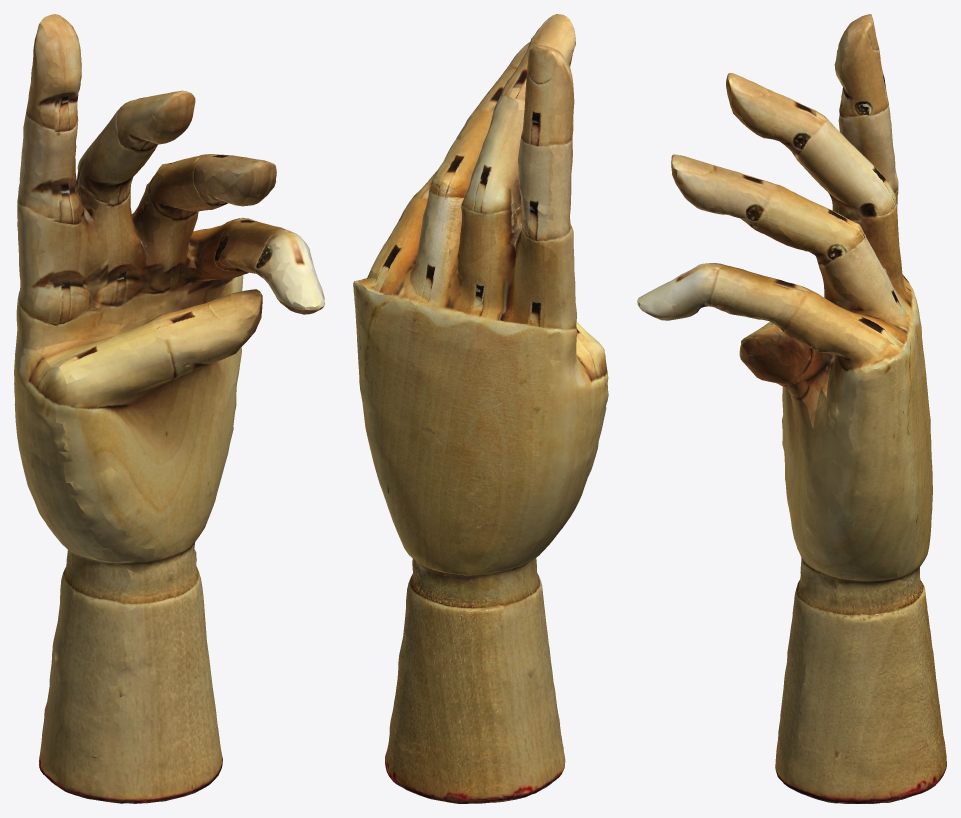
Rendered from Hand.obj.
The picture shows the model from 3 angles, left to right: view 1: azimuth 30°, elevation 25°; view 2: azimuth 150°, elevation 25°; view 3: azimuth 270°, elevation 25°; orthographic projection. The views are drawn at different scales.
Visible parts, largest first — view 1: Foto3Dmesh; view 2: Foto3Dmesh; view 3: Foto3Dmesh.
Part boxes in pixels (box(x1,y1,x2,y2)): Foto3Dmesh: box(14, 14, 324, 803); Foto3Dmesh: box(353, 14, 608, 803); Foto3Dmesh: box(637, 14, 946, 803).
Size of the model in its own units: 66.4 by 213 by 82.97.
1 material, 1 textured.
